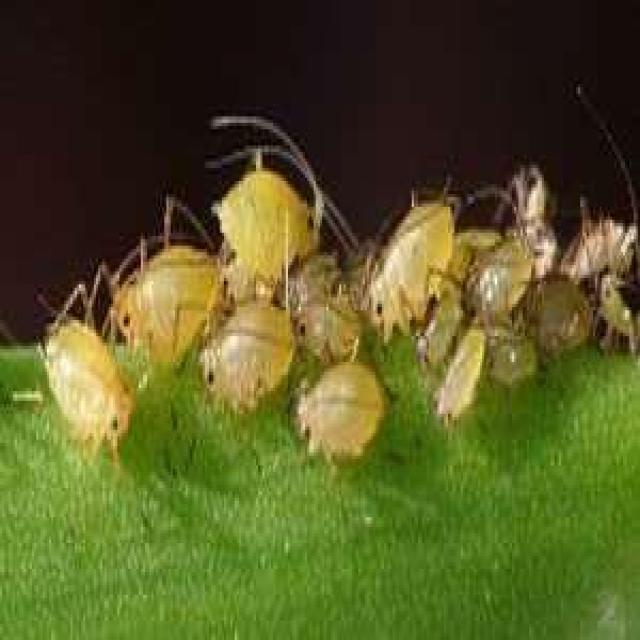Aphids: (199, 102, 342, 286), (23, 278, 152, 478), (341, 188, 461, 356), (188, 301, 305, 468), (94, 249, 228, 372), (286, 366, 404, 466)
